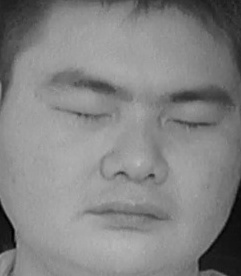blink: (61, 94, 113, 130), (172, 107, 218, 139)
mouth: (85, 191, 174, 240)
